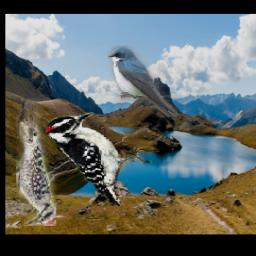Swallow: (107, 47, 177, 118)
Woodpecker: (44, 113, 152, 207), (16, 98, 56, 226)
